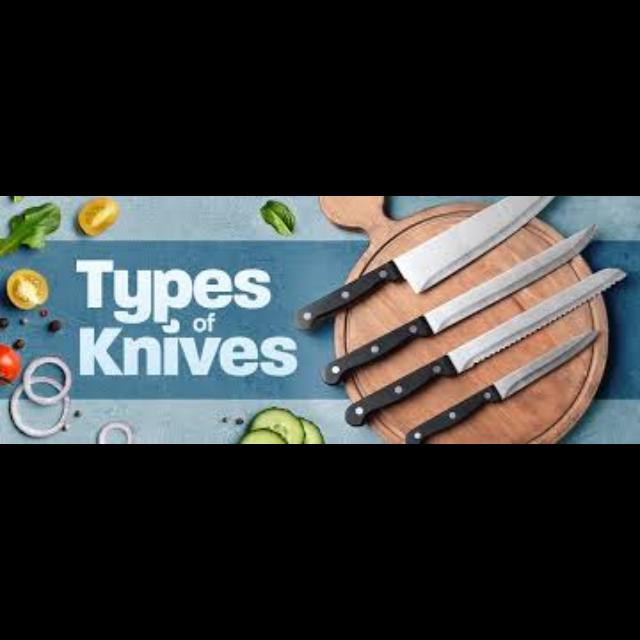Knife: (320, 222, 598, 386), (294, 196, 554, 330), (404, 330, 596, 442)
